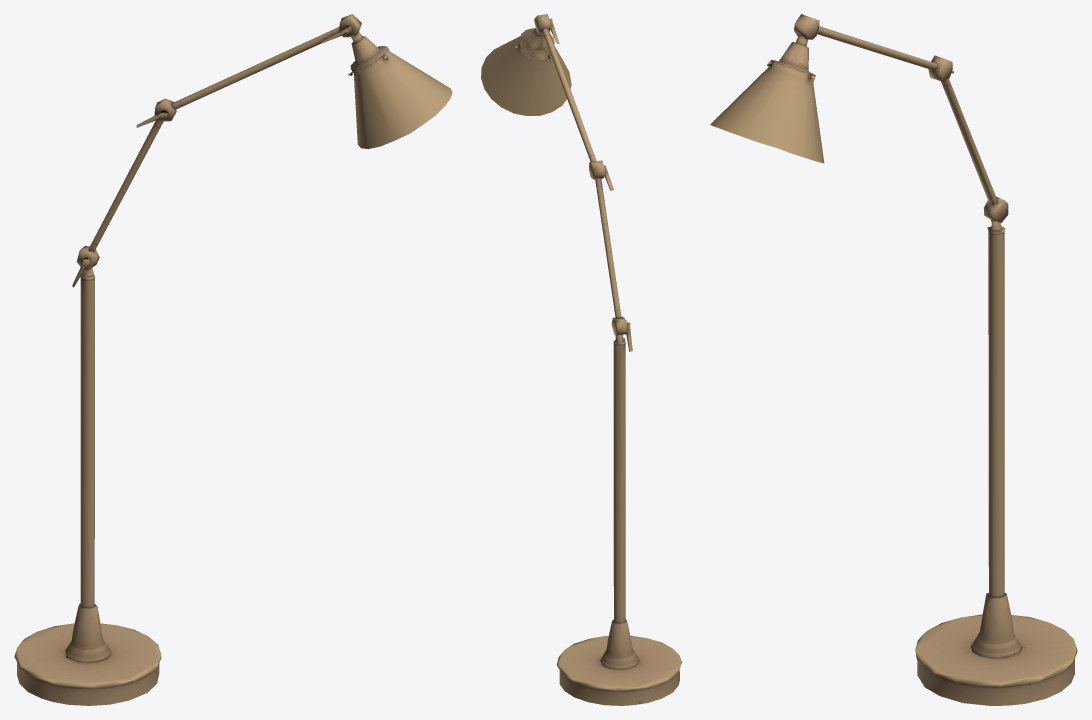
The model's file is Light0003.obj.
3 views of the same model, side by side, from view 1: azimuth 30°, elevation 25°; view 2: azimuth 150°, elevation 25°; view 3: azimuth 270°, elevation 25° (orthographic). The views are drawn at different scales.
Bounding box in the file's own units: 0.777 × 1.58 × 0.699.
1 material, 1 textured.
